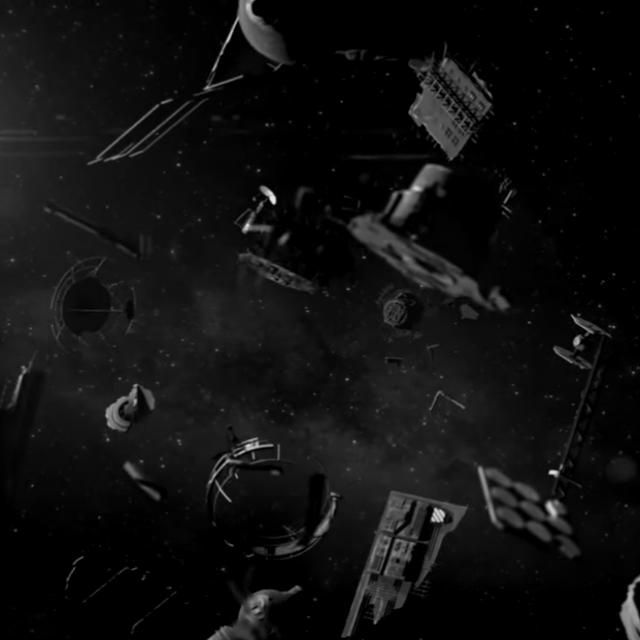large_debris: (76, 0, 345, 183), (221, 172, 521, 328), (475, 323, 632, 576), (329, 487, 478, 640), (194, 434, 356, 574), (16, 203, 169, 348), (53, 541, 199, 631), (399, 34, 496, 168), (0, 333, 50, 552), (374, 334, 480, 431), (200, 562, 328, 640), (108, 374, 173, 450), (106, 462, 180, 501)
